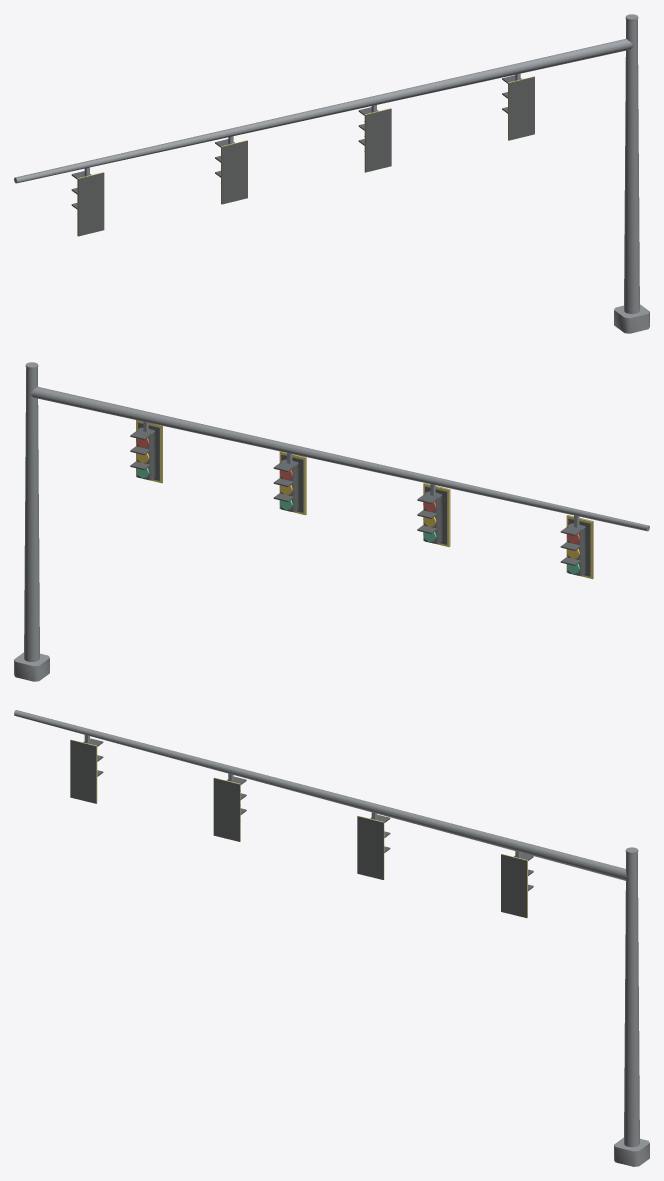
File: signal-4.glb
3 renders of one model, top to bottom at view 1: azimuth 30°, elevation 25°; view 2: azimuth 150°, elevation 25°; view 3: azimuth 330°, elevation 25°, orthographic.
Parts seen in each view (by area): view 1: signal-4; view 2: signal-4; view 3: signal-4.
Boxes of the visible parts, bbox=[...] form: signal-4: bbox=[14, 14, 649, 333]; signal-4: bbox=[14, 362, 649, 681]; signal-4: bbox=[14, 710, 649, 1166].
Bounding box in the file's own units: 2.13 × 1 × 0.0936.
